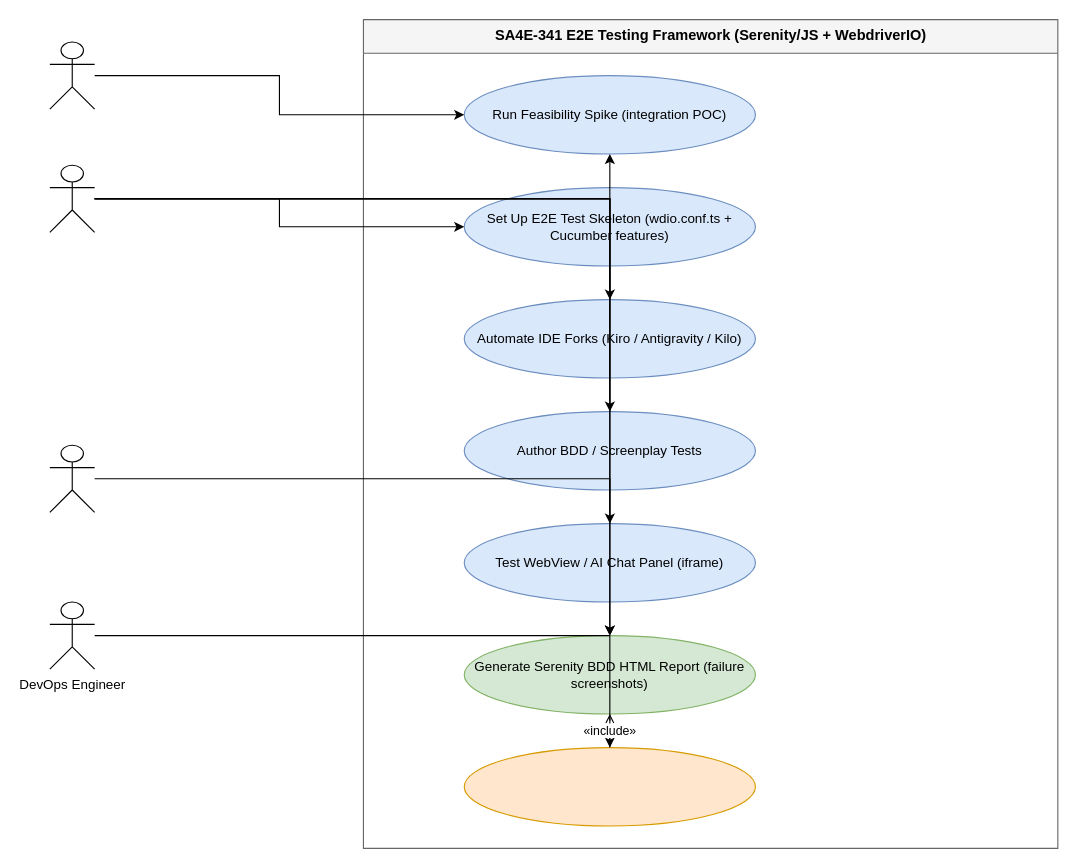
Image size: 1077x868. Some labels were removed from this diagram. Here are the shapes that lost their labels. From the top down, the box of each, then its label:
(49, 41, 95, 109): Scrum Master
(49, 164, 95, 232): QA Engineer
(49, 444, 95, 512): Product Owner
(463, 746, 755, 826): Run E2E in Headless CI (Linux xvfb / Windows)
